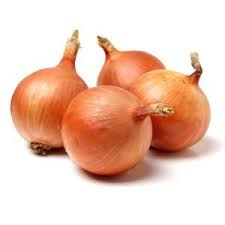Onion: (63, 89, 159, 183), (127, 66, 218, 156), (8, 61, 89, 146)
